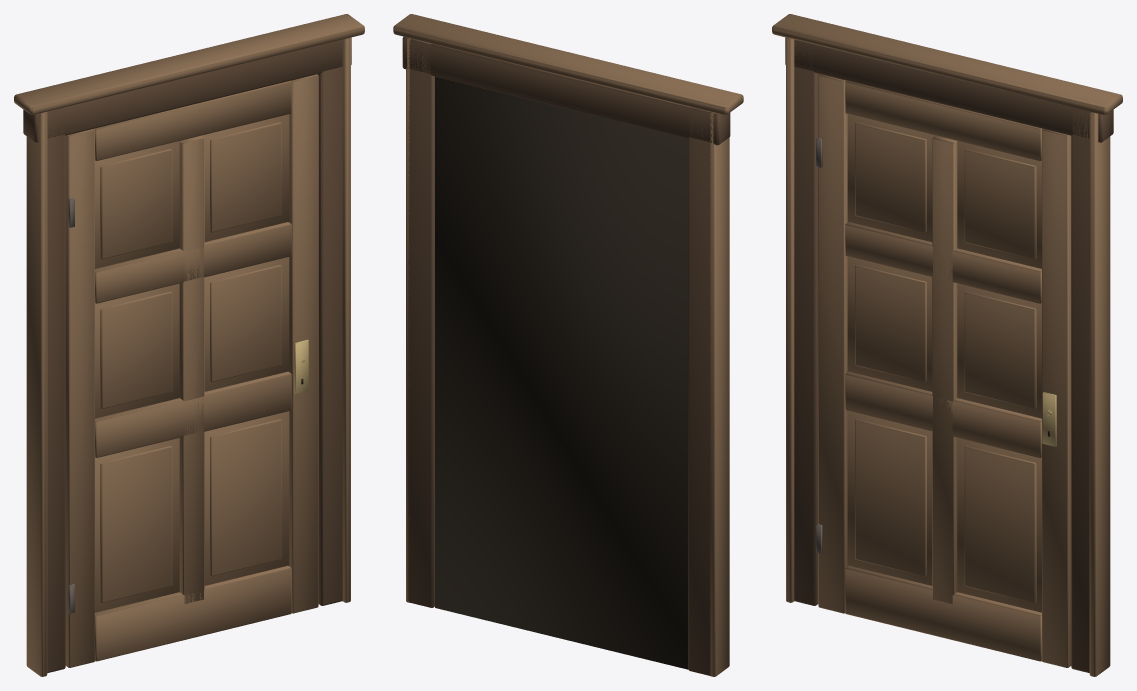
File: door.glb
3 views of the same model, side by side, from view 1: azimuth 30°, elevation 25°; view 2: azimuth 150°, elevation 25°; view 3: azimuth 330°, elevation 25° (orthographic).
Visible parts, largest first — view 1: stileL, stileR, jamb1, arch-1, muntin, jamb-1, fld00, fld01, rail0.1, head, head_cap, rail0.95 (+14 smaller); view 2: gap, jamb1, jamb-1, arch-1, head, head_cap, arch1; view 3: stileL, stileR, jamb-1, arch1, muntin, jamb1, fld01, fld00, rail0.1, head, head_cap, fld11 (+14 smaller).
Boxes of the visible parts, x1,y1,x2,y2 form: stileL: (65,129,94,667); stileR: (289,74,318,613); jamb1: (317,66,342,605); arch-1: (26,111,47,676); muntin: (179,135,204,603); jamb-1: (47,109,65,672); fld00: (100,446,172,603); fld01: (210,419,281,576); rail0.1: (95,565,291,661); head: (23,37,351,142); head_cap: (14,14,364,114); rail0.95: (95,371,291,457); gap: (435,76,688,669); jamb1: (408,38,434,607); jamb-1: (688,107,711,675); arch-1: (710,111,729,676); head: (402,36,730,145); head_cap: (393,14,743,114); arch1: (406,37,410,602); stileL: (818,74,847,613); stileR: (1042,129,1071,667); jamb-1: (794,40,819,605); arch1: (1089,111,1110,676); muntin: (932,135,957,604); jamb1: (1071,107,1089,672); fld01: (964,446,1036,603); fld00: (855,419,926,576); rail0.1: (845,565,1041,661); head: (785,37,1113,142); head_cap: (772,14,1122,114); fld11: (964,291,1036,408).
Size of the model in its own units: 1.5 by 2.46 by 0.14.
